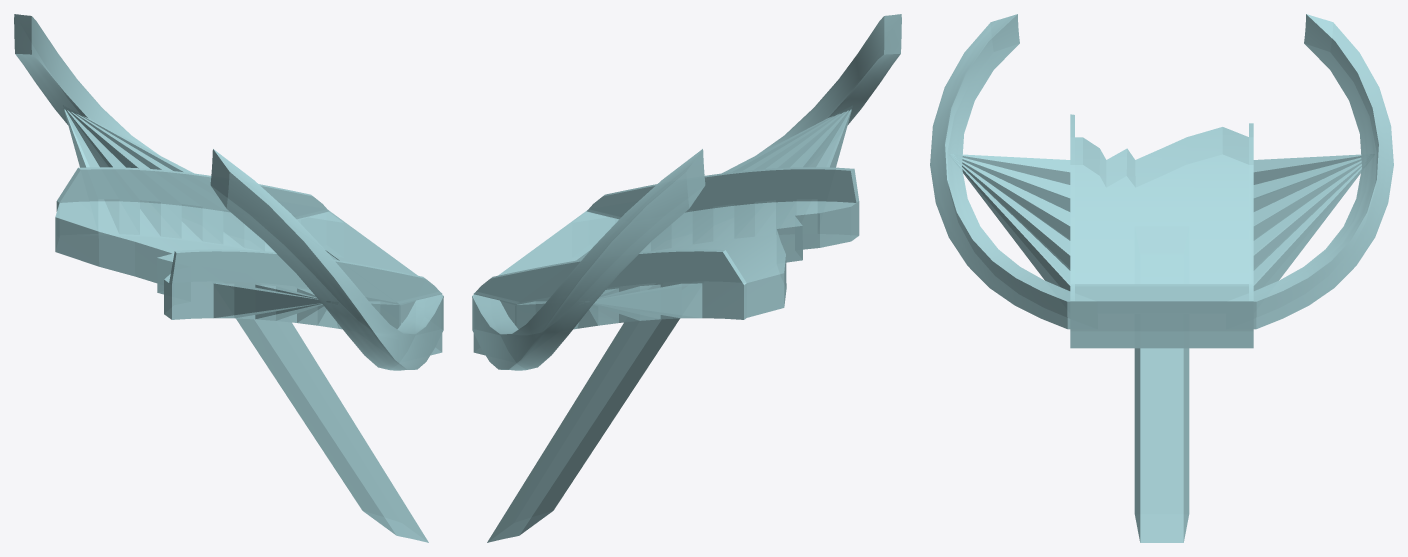
The model's file is bridge_low.fbx.
3 views of the same model, side by side, from view 1: azimuth 30°, elevation 25°; view 2: azimuth 150°, elevation 25°; view 3: azimuth 270°, elevation 25° (orthographic). The views are drawn at different scales.
Parts seen in each view (by area): view 1: Bridge; view 2: Bridge; view 3: Bridge.
Part boxes in pixels (box(x1,y1,x2,y2)): Bridge: box(14, 14, 443, 542); Bridge: box(472, 14, 901, 542); Bridge: box(930, 14, 1393, 542).
Size of the model in its own units: 0.0969 by 0.1502 by 0.1521.
